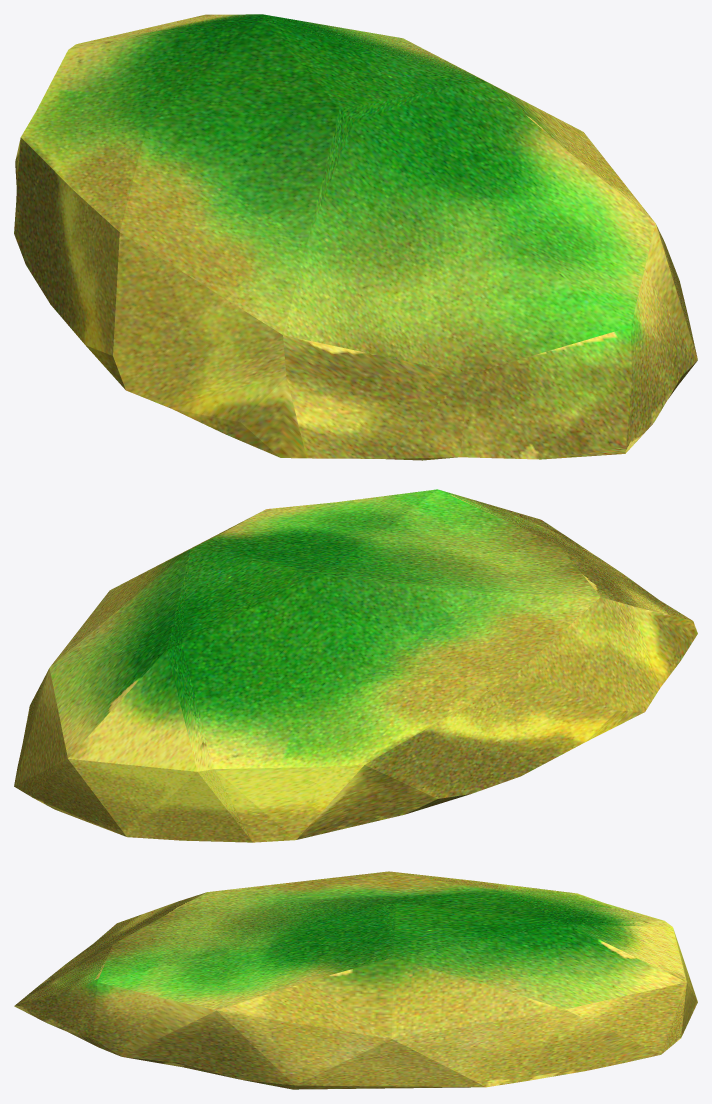
File: DarkPath_MiniLand 1.fbx
The picture shows the model from 3 angles, top to bottom: view 1: azimuth 30°, elevation 25°; view 2: azimuth 150°, elevation 25°; view 3: azimuth 270°, elevation 25°; orthographic projection. The views are drawn at different scales.
Visible parts, largest first — view 1: Icosphere; view 2: Icosphere; view 3: Icosphere.
Boxes of the visible parts, x1,y1,x2,y2 form: Icosphere: (14, 14, 697, 460); Icosphere: (14, 489, 697, 842); Icosphere: (14, 871, 697, 1089).
Bounding box in the file's own units: 205 × 53.55 × 319.
